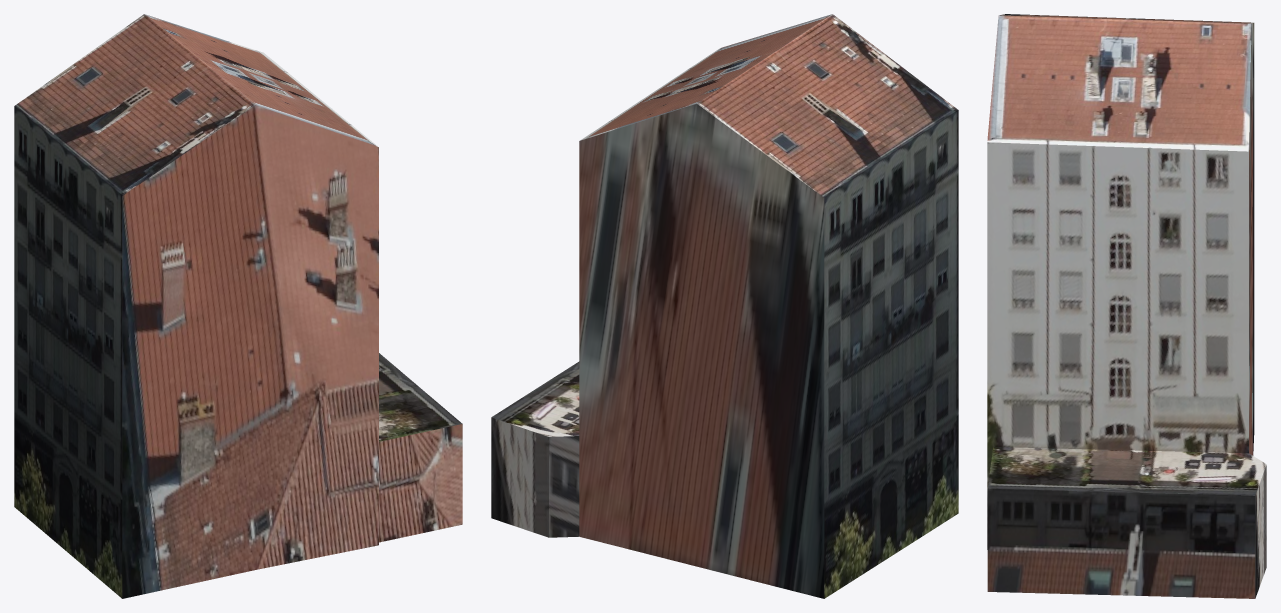
3 renders of one model, left to right at view 1: azimuth 30°, elevation 25°; view 2: azimuth 150°, elevation 25°; view 3: azimuth 270°, elevation 25°, orthographic. The views are drawn at different scales.
Parts seen in each view (by area): view 1: Z_UP; view 2: Z_UP; view 3: Z_UP.
Boxes of the visible parts, x1,y1,x2,y2 form: Z_UP: (14, 14, 462, 598); Z_UP: (491, 14, 958, 598); Z_UP: (987, 14, 1266, 598).
Bounding box in the file's own units: 22.28 × 28.64 × 15.25.
Materials: 2 (1 with a texture image).
